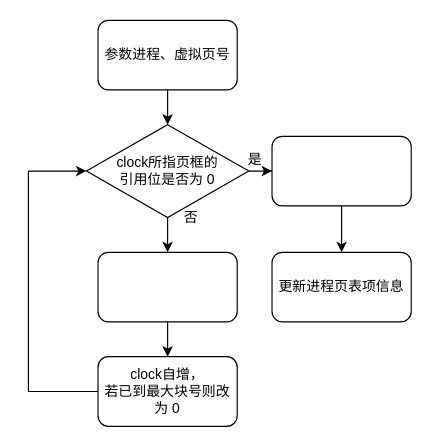
Some shapes in this 432 by 447 pixel diagram are drawn without their labels. The shapes that lost their labels are listed below. From the top down, each one's centre as x and y in pixels, then its label:
At pixel 341 170: "更新clock所指的内存块的信息".
At pixel 167 286: "引用位置0".
